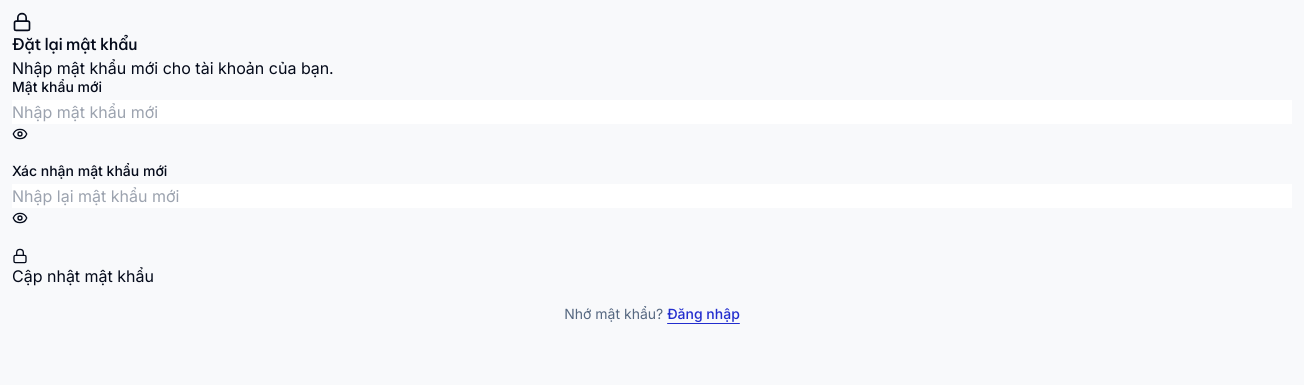
Test: ResetPasswordPage › shows validation error for short password
Type "short" into the password field labelled "Mật khẩu mới" at [652, 112], box [12,100,1292,124]
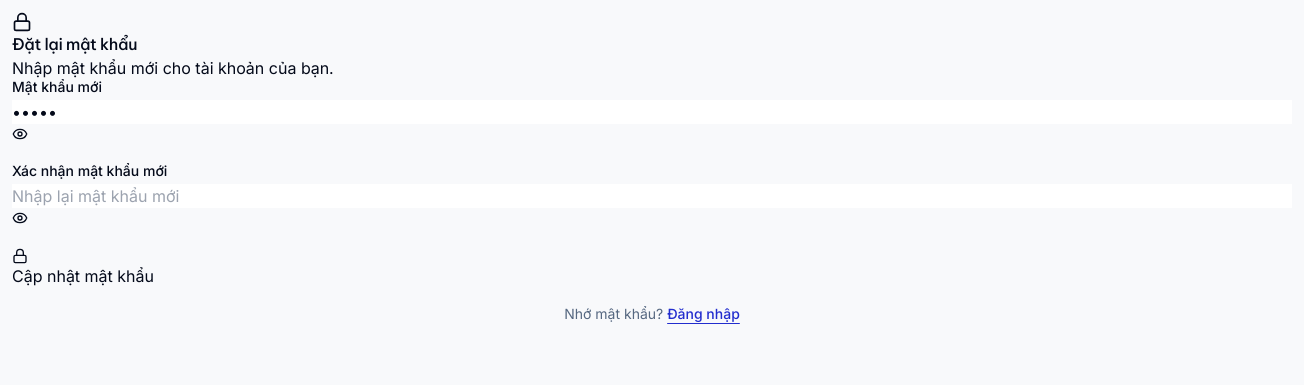
Click the button "Cập nhật mật khẩu" at [83, 268], box [12,248,154,288]
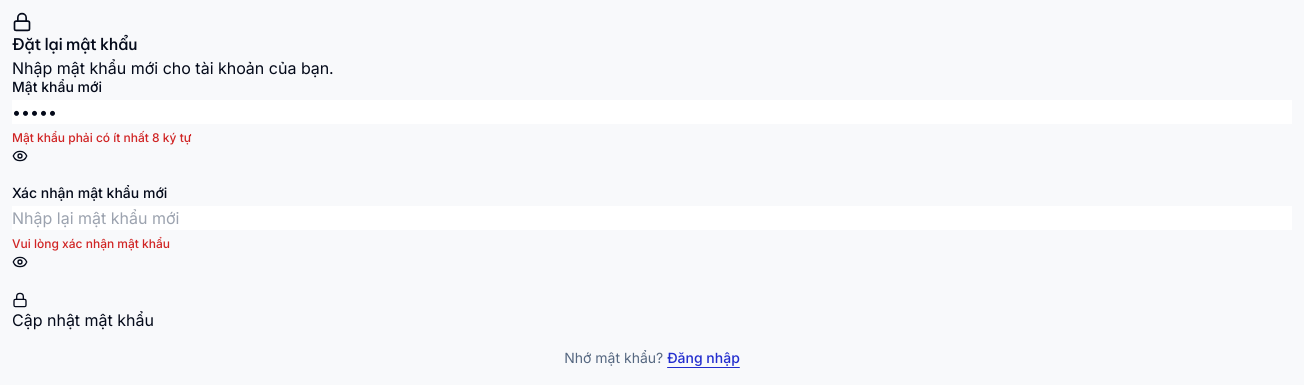
Now the text "Mật khẩu phải có ít nhất 8 ký tự" is shown, box [12,130,191,145]
